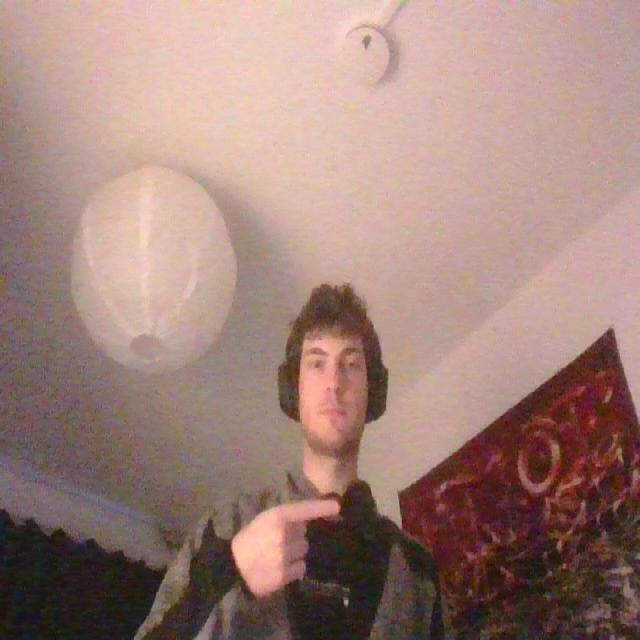right: (228, 494, 348, 598)
